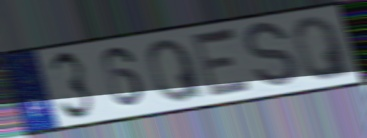3: (47, 49, 98, 121)
6: (100, 44, 148, 111)
E: (189, 25, 257, 101)
Q: (291, 14, 355, 83), (146, 36, 207, 105)
S: (244, 19, 300, 93)
